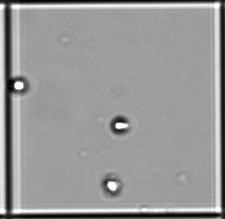Living Cell: (110, 116, 130, 135), (104, 177, 120, 195), (10, 77, 27, 92)
